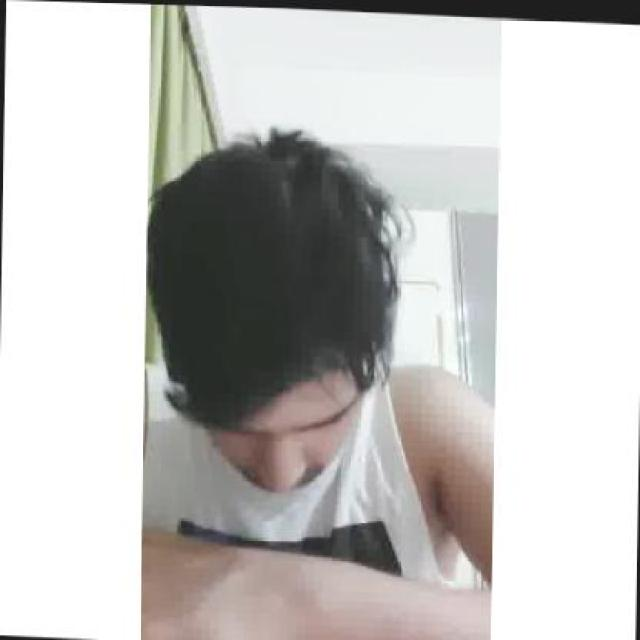inattentif: (143, 122, 368, 492)
